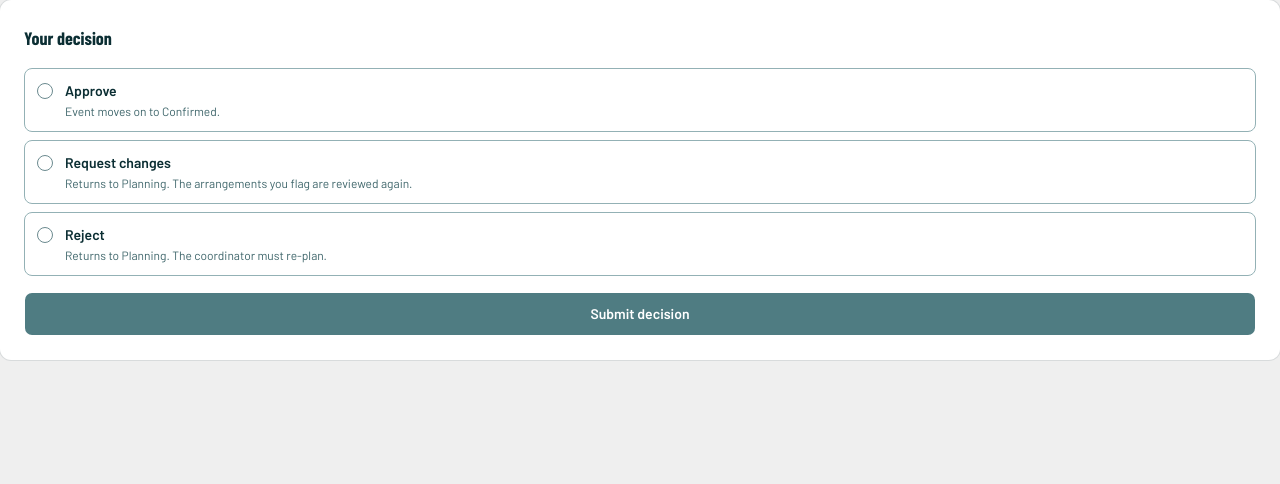
it: SCRUM-99/AC5 + AC8 approve an event › SCRUM-99/AC5 sends the Approve to event-service and shows the event is Safety Approved
The width and height of the screenshot is (1280, 484).
Click the radio button next to "Approve" at (45, 91), box [37,83,53,99]
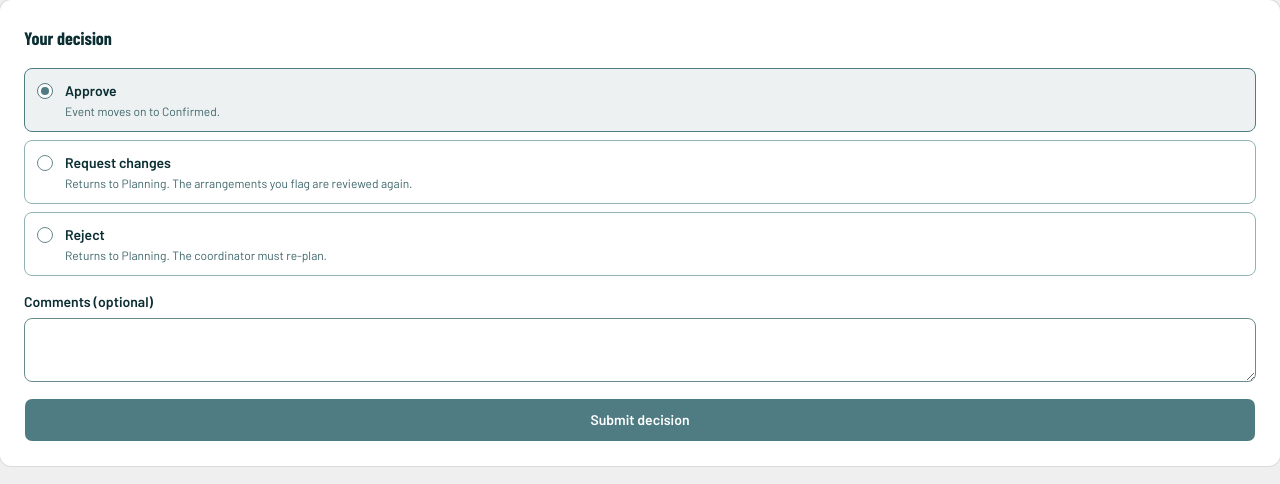
Type "Exits clear" into the text box labelled "Comments (optional)" at (640, 350), box [24,318,1256,382]
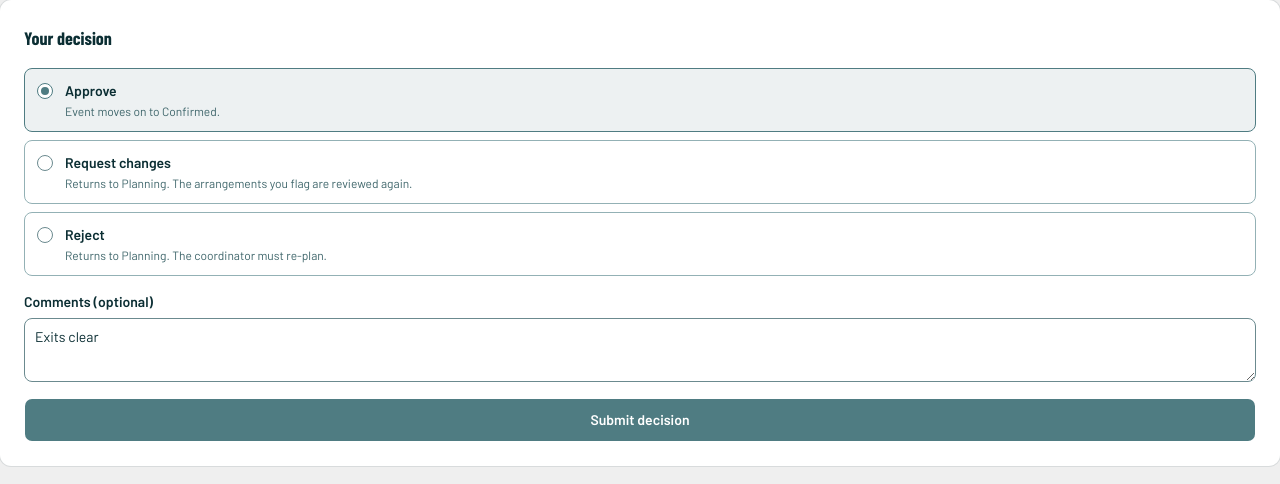
Click the button "Submit decision" at (640, 420), box [24,398,1256,442]
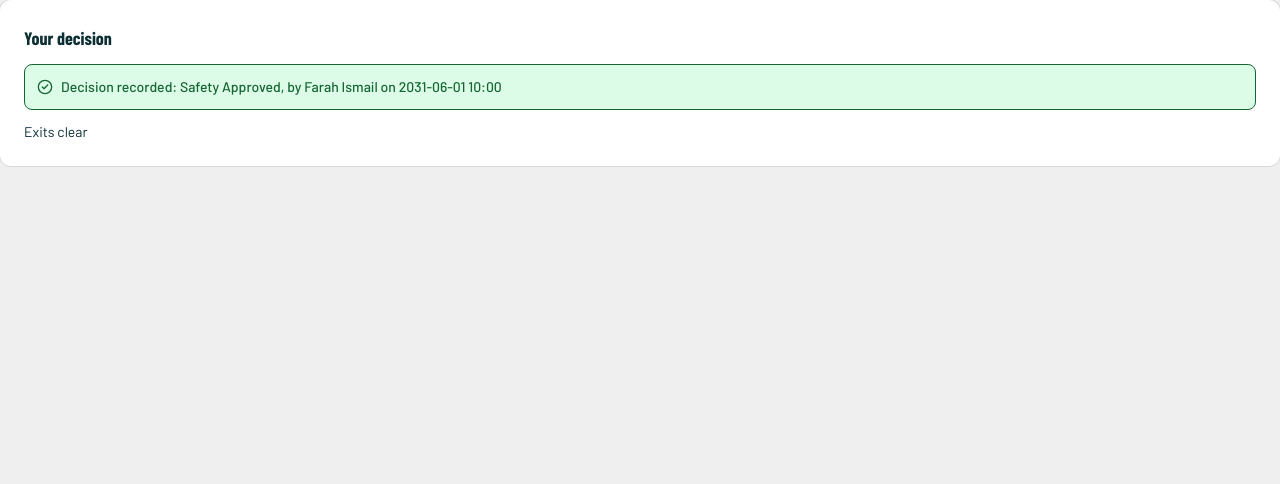
Check: the message shows "Safety Approved", box [61,78,502,95]
